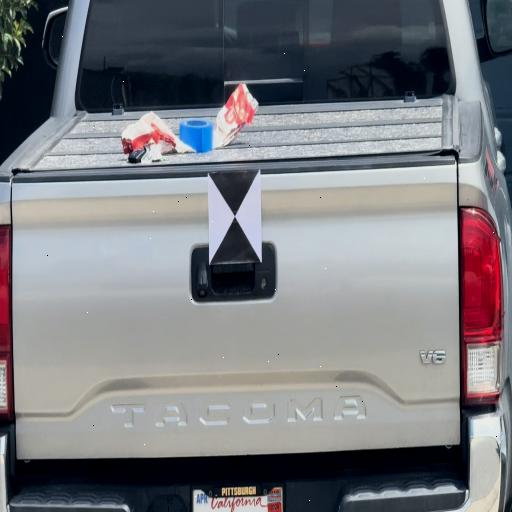target: (208, 172, 261, 262)
